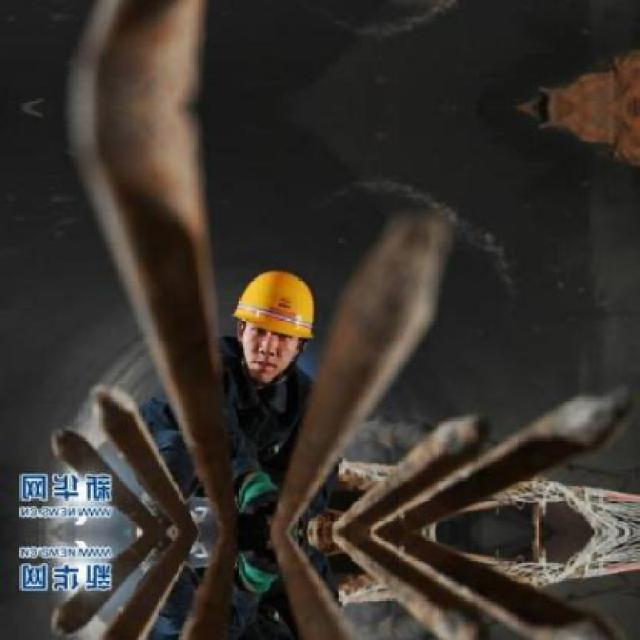con casco: (237, 270, 382, 373)
